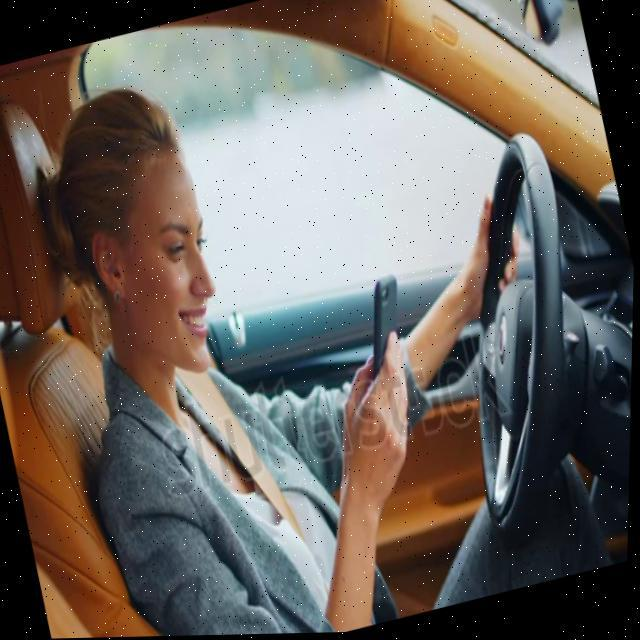PhoneCall: (348, 272, 422, 404)
